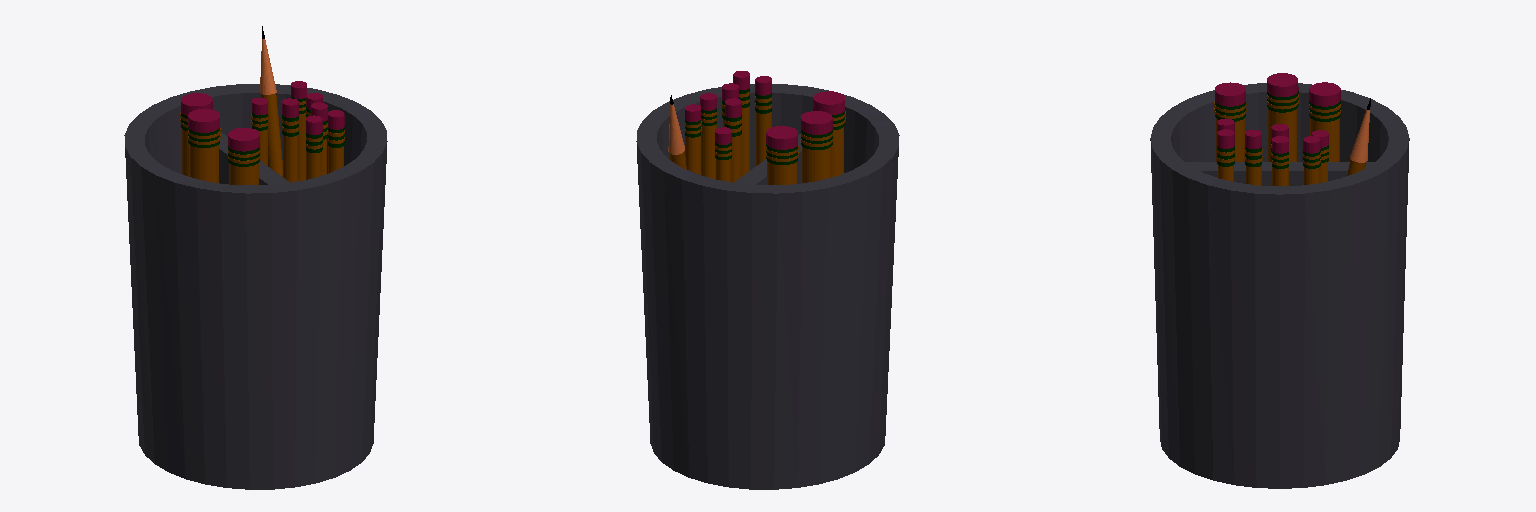
Rendered from pen.obj.
3 renders of one model, left to right at view 1: azimuth 30°, elevation 25°; view 2: azimuth 150°, elevation 25°; view 3: azimuth 270°, elevation 25°, orthographic.
Visible parts, largest first — view 1: Cylinder, Cylinder.009, Cylinder.010, Cylinder.006, Cylinder.001, Cylinder.004, Cylinder.003, Cylinder.011, Cylinder.007, Cylinder.008; view 2: Cylinder, Cylinder.009, Cylinder.011, Cylinder.010, Cylinder.002, Cylinder.004, Cylinder.007, Cylinder.003, Cylinder.001, Cylinder.008, Cylinder.006; view 3: Cylinder, Cylinder.009, Cylinder.011, Cylinder.010, Cylinder.005, Cylinder.003, Cylinder.002, Cylinder.007, Cylinder.006.
Part boxes in pixels (bbox=[...]): Cylinder: bbox=[124, 84, 387, 489]; Cylinder.009: bbox=[188, 109, 220, 182]; Cylinder.010: bbox=[228, 128, 259, 184]; Cylinder.006: bbox=[260, 26, 282, 176]; Cylinder.001: bbox=[282, 98, 298, 182]; Cylinder.004: bbox=[306, 115, 322, 179]; Cylinder.003: bbox=[328, 110, 344, 173]; Cylinder.011: bbox=[180, 93, 212, 176]; Cylinder.007: bbox=[291, 81, 306, 180]; Cylinder.008: bbox=[251, 98, 268, 165]; Cylinder: bbox=[636, 84, 899, 489]; Cylinder.009: bbox=[801, 111, 832, 182]; Cylinder.011: bbox=[766, 126, 798, 184]; Cylinder.010: bbox=[813, 91, 845, 176]; Cylinder.002: bbox=[700, 93, 716, 178]; Cylinder.004: bbox=[755, 76, 771, 165]; Cylinder.007: bbox=[685, 104, 701, 174]; Cylinder.003: bbox=[733, 71, 749, 176]; Cylinder.001: bbox=[725, 98, 741, 182]; Cylinder.008: bbox=[715, 127, 731, 181]; Cylinder.006: bbox=[668, 95, 686, 169]; Cylinder: bbox=[1150, 83, 1409, 488]; Cylinder.009: bbox=[1267, 73, 1298, 161]; Cylinder.011: bbox=[1309, 82, 1340, 161]; Cylinder.010: bbox=[1214, 82, 1246, 161]; Cylinder.005: bbox=[1245, 130, 1262, 185]; Cylinder.003: bbox=[1217, 129, 1234, 181]; Cylinder.002: bbox=[1272, 136, 1288, 185]; Cylinder.007: bbox=[1303, 136, 1320, 184]; Cylinder.006: bbox=[1347, 98, 1370, 175].
Bounding box in the file's own units: 1.6 × 2.45 × 1.56.